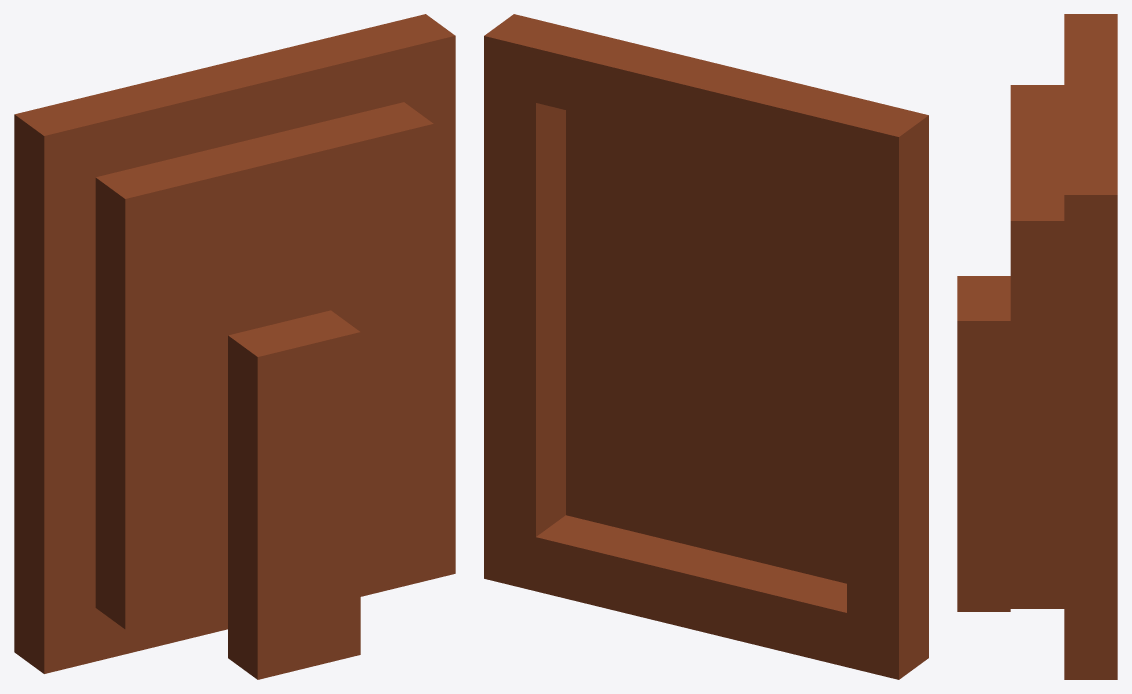
File: picture_frame_small.glb
3 views of the same model, side by side, from view 1: azimuth 30°, elevation 25°; view 2: azimuth 150°, elevation 25°; view 3: azimuth 270°, elevation 25° (orthographic). The views are drawn at different scales.
Parts seen in each view (by area): view 1: Untitled.001, Untitled; view 2: Untitled.001; view 3: Untitled.001, Untitled.
Part boxes in pixels (x1,y1,x2,y2): Untitled.001: (14,14,455,673); Untitled: (228,310,360,679); Untitled.001: (484,14,928,679); Untitled.001: (1010,14,1117,679); Untitled: (957,276,1010,611).
Size of the model in its own units: 0.24 by 0.3 by 0.09.
2 materials, 2 textured.
